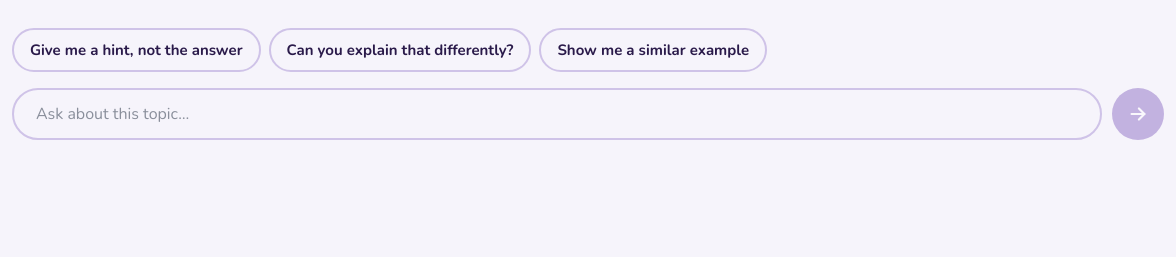
TutorChat › shows a distinct message per rejection response and drops the empty tutor bubble
Type "a question" into the field with placeholder "Ask about this topic…" at x=557, y=114, box left=12, top=88, right=1102, bottom=140
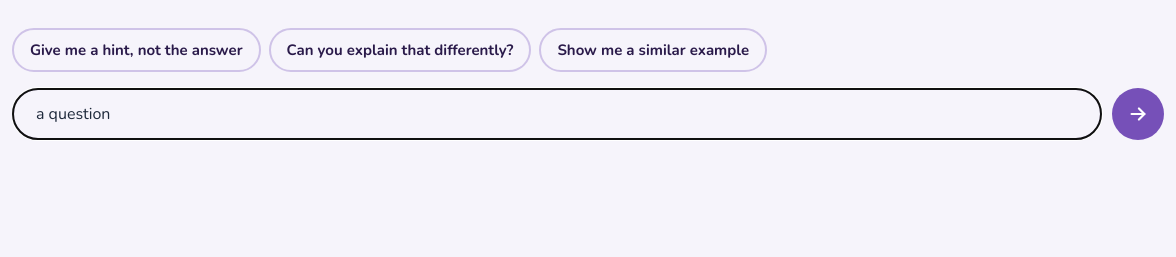
Click the button named "send" at x=1138, y=114, box left=1112, top=88, right=1164, bottom=140
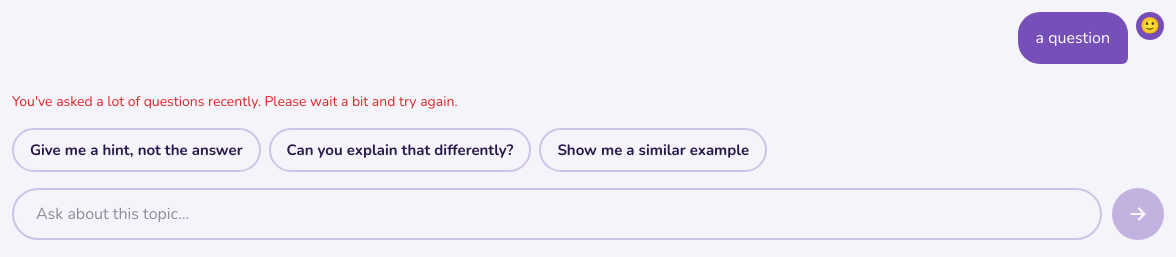
Check: the text with test id "tutor-error-rate-limited" is shown, box left=12, top=92, right=458, bottom=111
Check: the text "a question" is shown, box left=1018, top=12, right=1128, bottom=64
